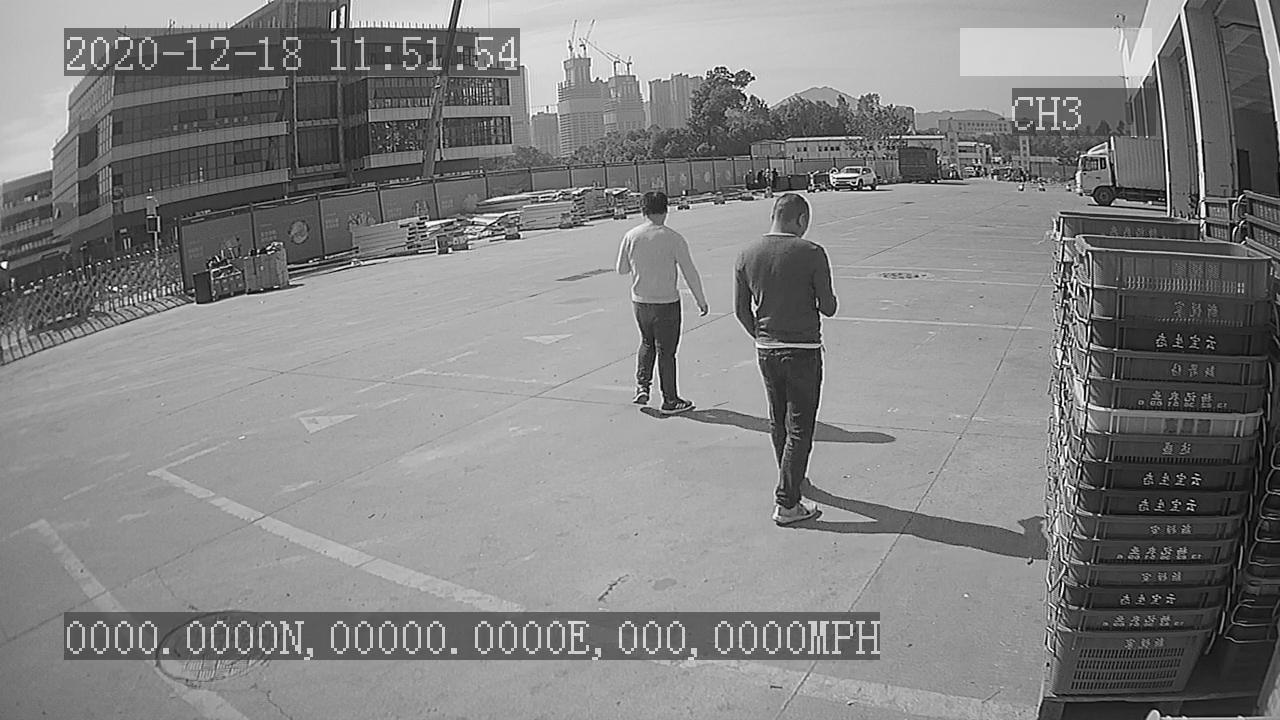person: (727, 186, 847, 542), (608, 185, 715, 424)
